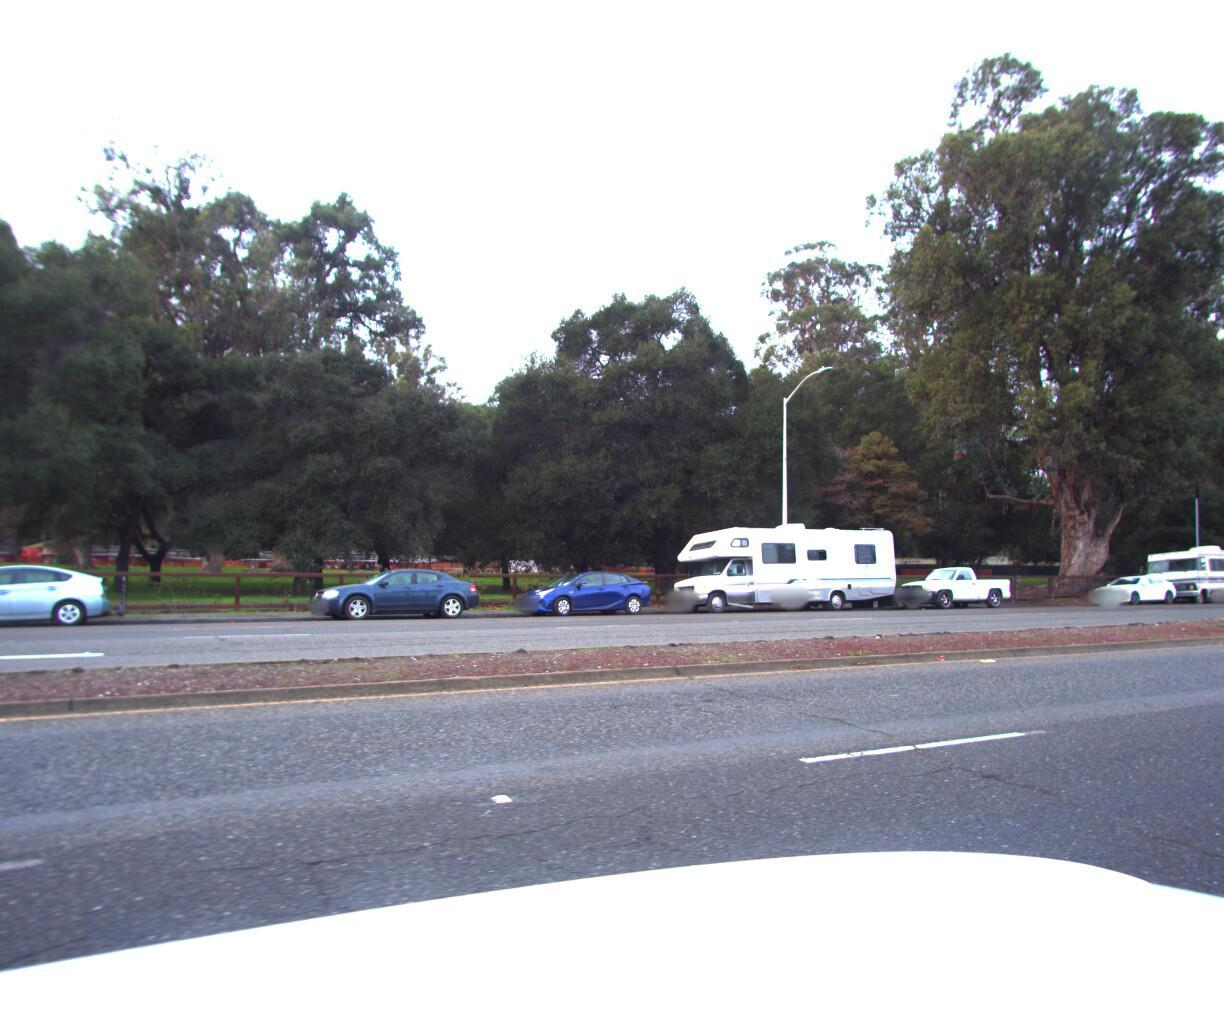car: (301, 568, 489, 627), (506, 570, 658, 621), (889, 564, 1015, 610), (1081, 573, 1177, 605)
other_vehicle: (655, 515, 905, 619), (1128, 540, 1224, 605)
